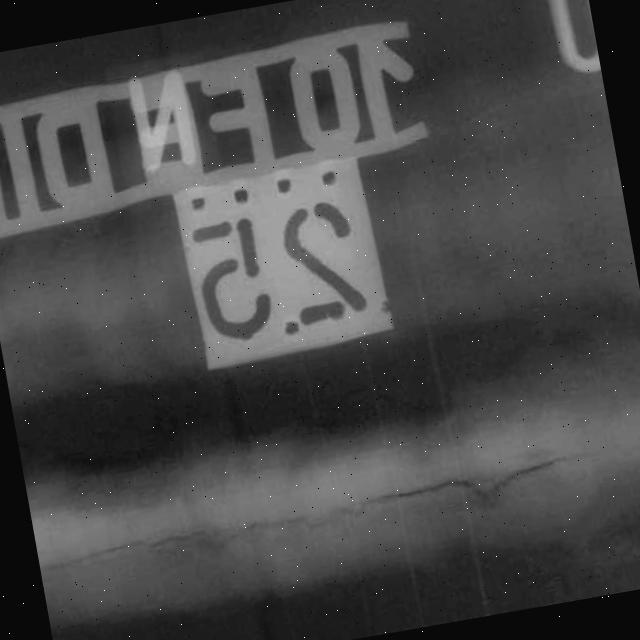Crack: (29, 405, 640, 598)
